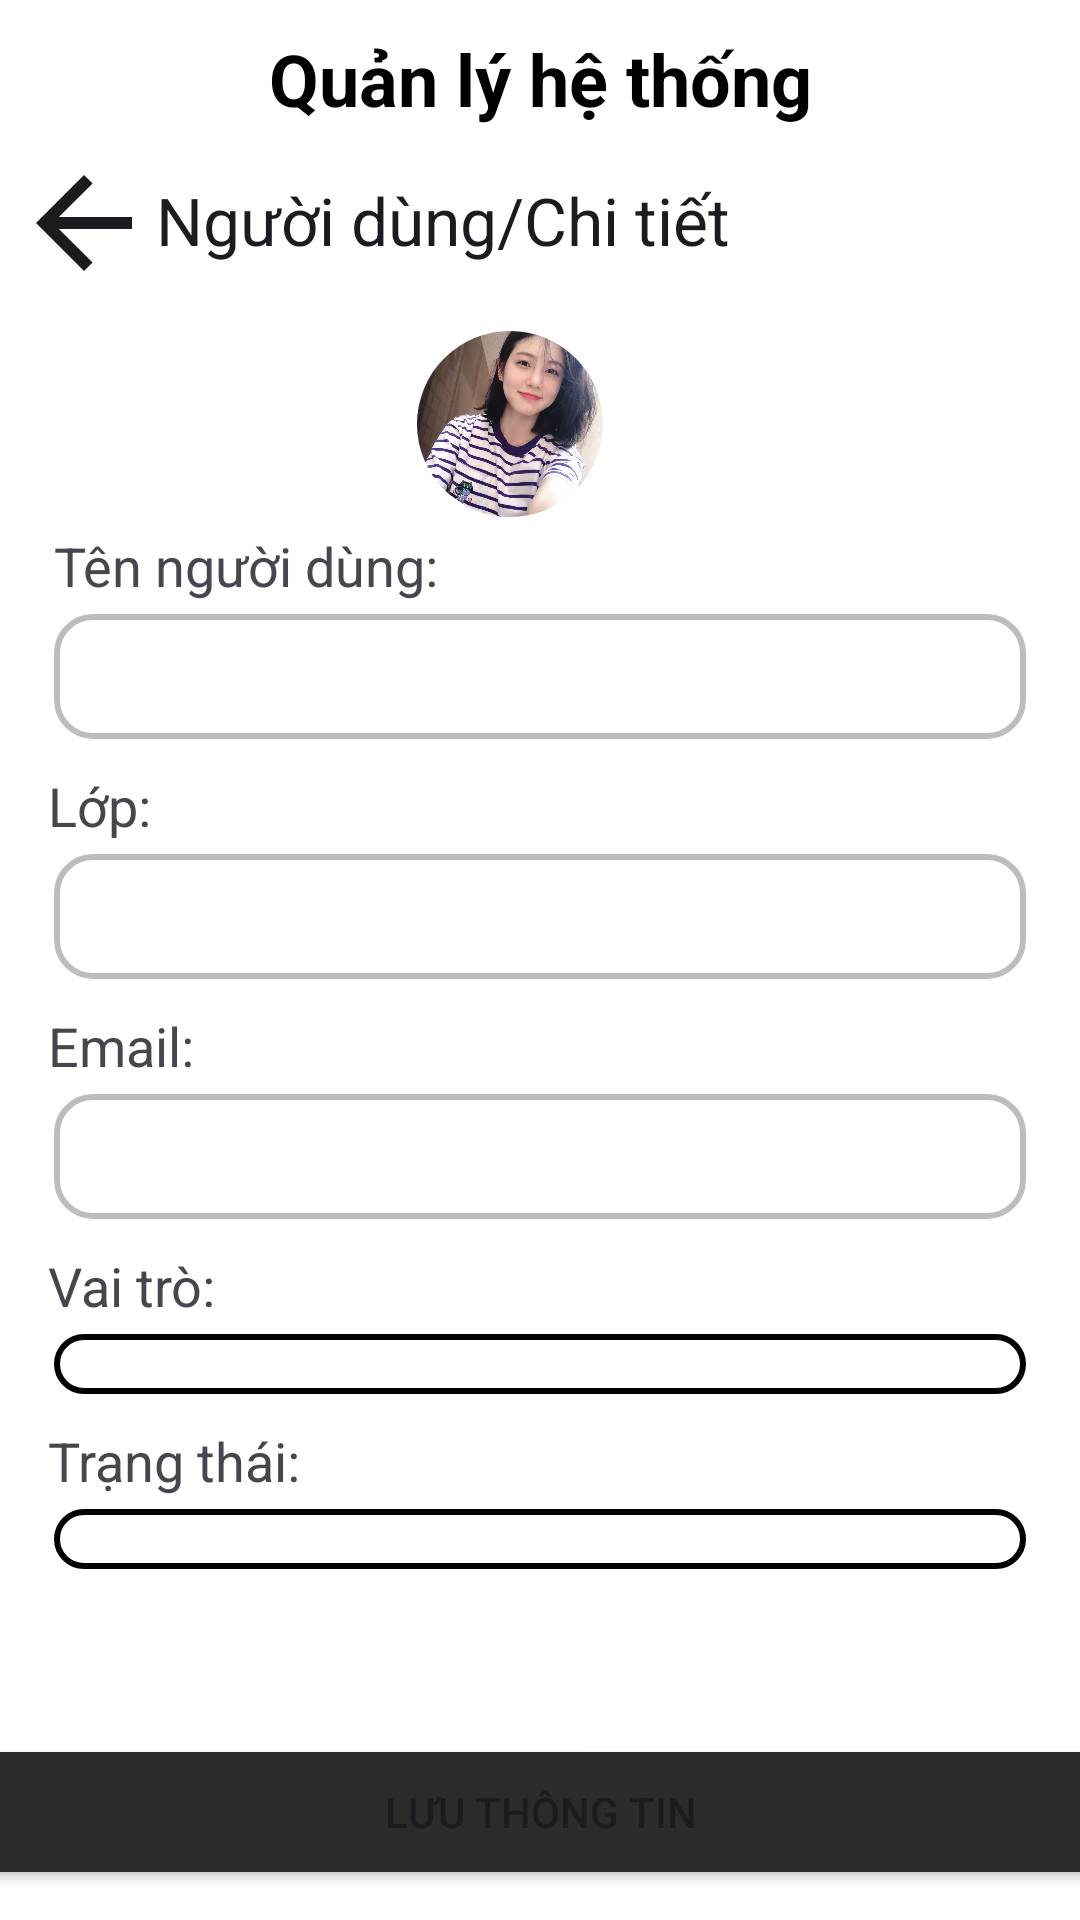

Icons on this 1080px x 1920px Android screen, each with the point to tap as point (x, y):
arrow back left: point (84, 223)
